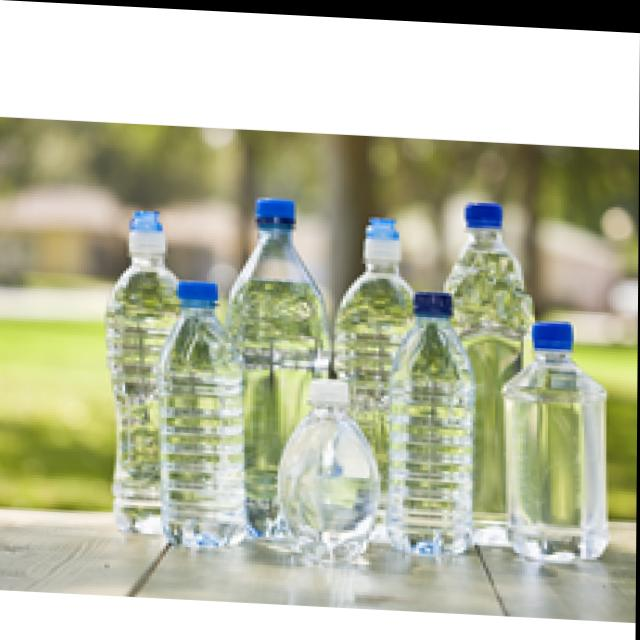plastic_water_bottles: (155, 271, 241, 550), (516, 306, 609, 562), (389, 282, 474, 560), (239, 187, 326, 326), (444, 190, 531, 286)
